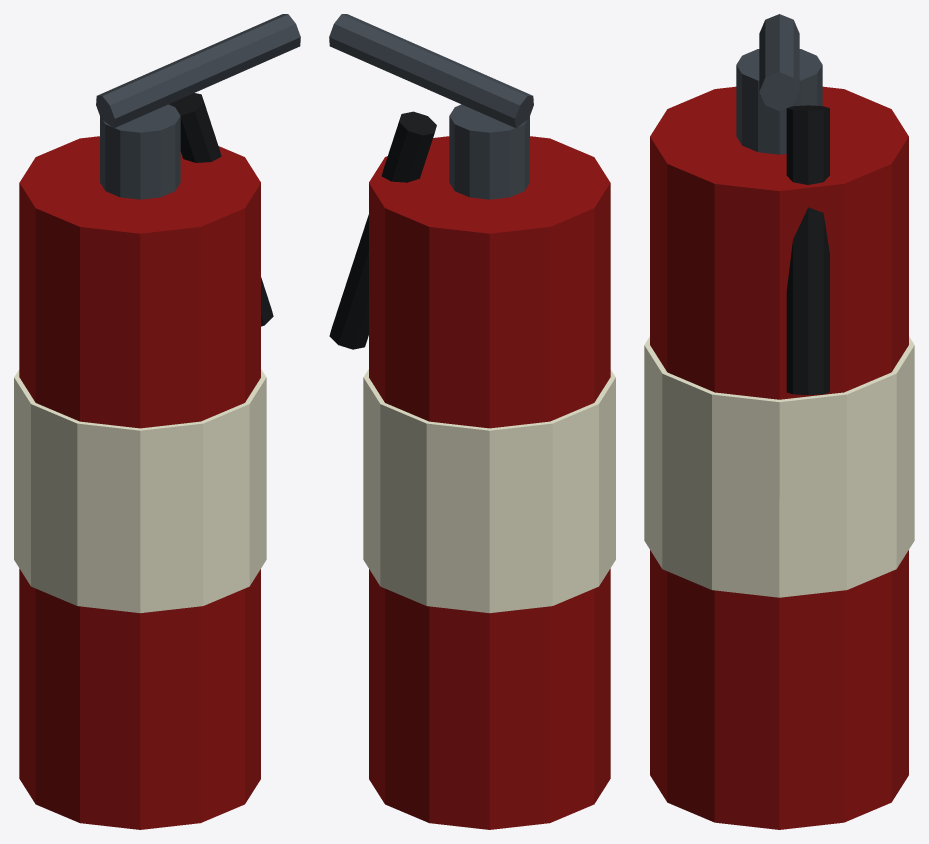
The model's file is FireExtinguisher.fbx.
The picture shows the model from 3 angles, left to right: view 1: azimuth 30°, elevation 25°; view 2: azimuth 150°, elevation 25°; view 3: azimuth 270°, elevation 25°; orthographic projection. The views are drawn at different scales.
Parts seen in each view (by area): view 1: FireExtinguisher; view 2: FireExtinguisher; view 3: FireExtinguisher.
Part boxes in pixels (box(x1,y1,x2,y2)): FireExtinguisher: box(14, 14, 300, 829); FireExtinguisher: box(329, 14, 615, 829); FireExtinguisher: box(644, 14, 914, 829).
Size of the model in its own units: 22.66 by 59.88 by 18.8.
1 material, 1 textured.
